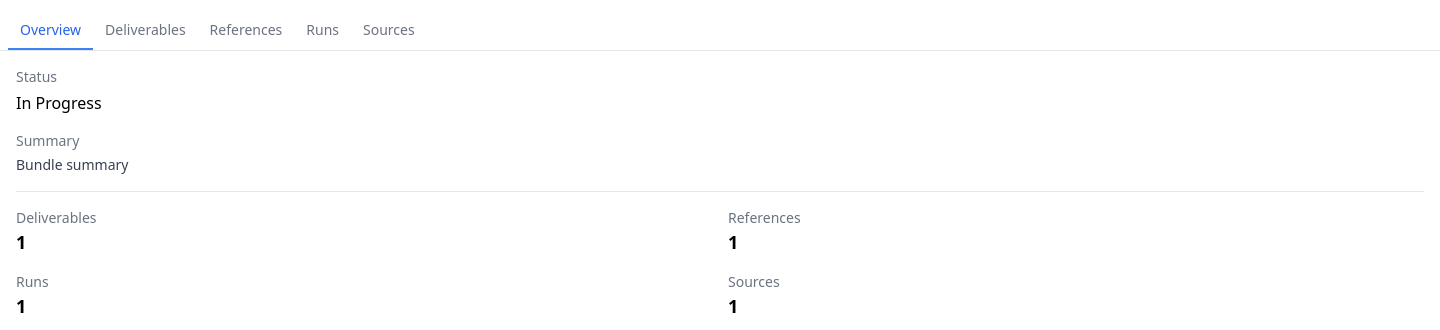
ThreadBundlePanel › keeps the public wrapper compatible with useThreadBundle and section navigation
Expected: the text "Bundle summary" is shown, [16, 155, 128, 174]
Click the button "References": [246, 31] box [198, 12, 294, 50]
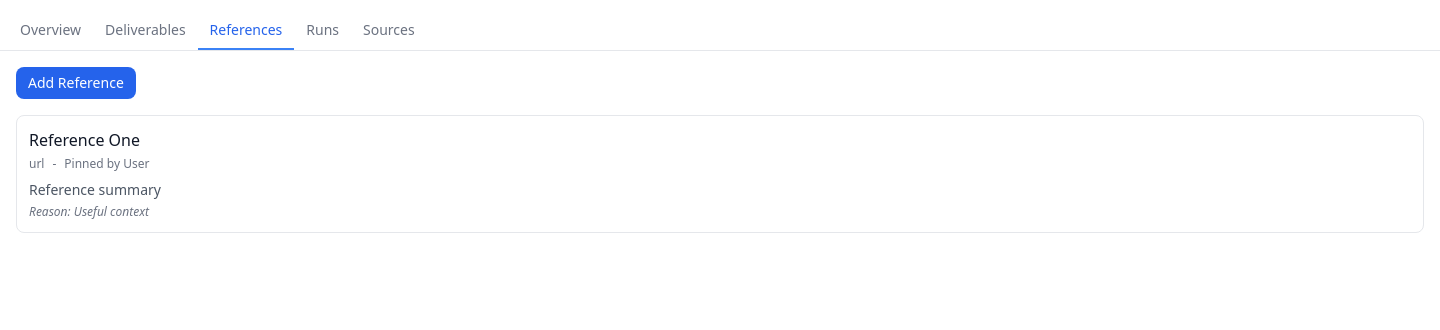
Expected: the link "Reference One" is shown, [29, 129, 140, 151]
Click the button "Runs": [323, 31] box [294, 12, 351, 50]
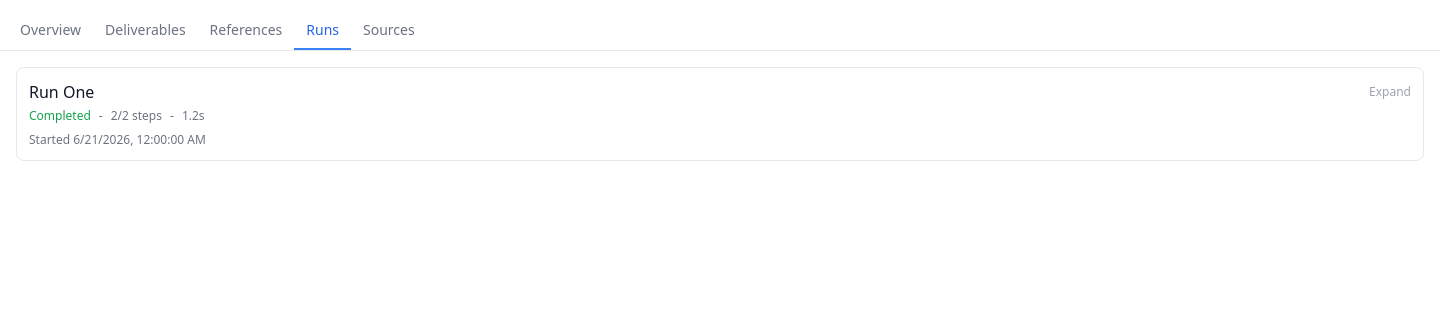
Expected: the heading "Run One" is shown, [29, 80, 94, 104]
Click the button "Sources": [389, 31] box [351, 12, 427, 50]
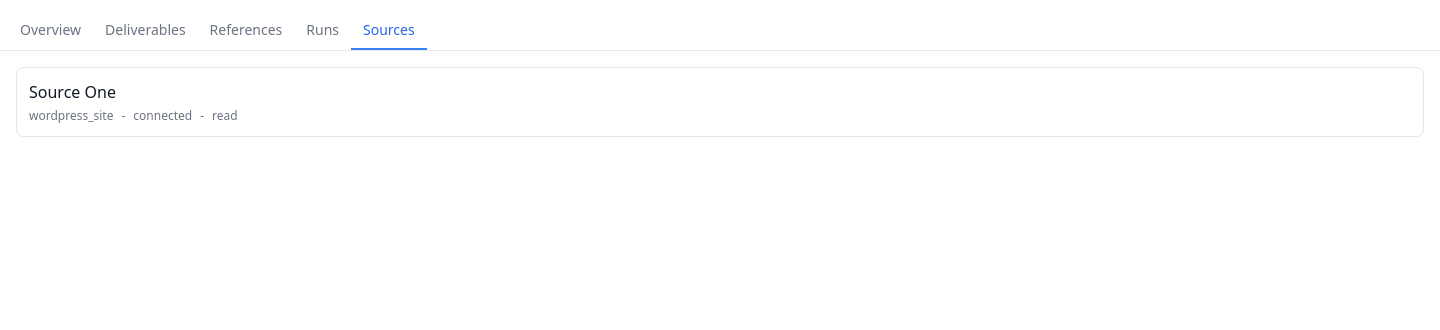
Expected: the heading "Source One" is shown, [29, 81, 116, 103]
